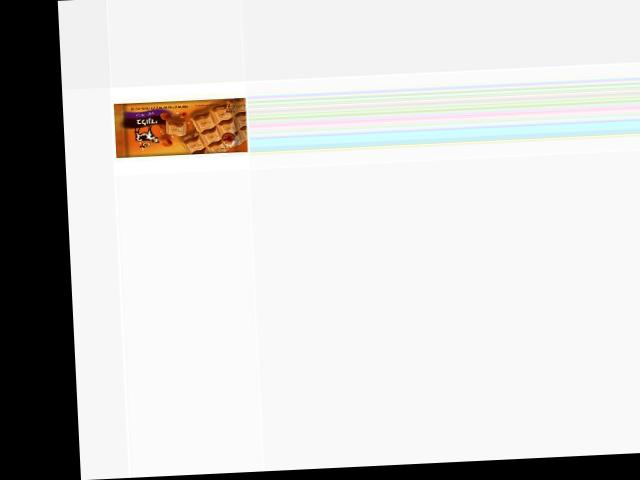chocolate: (109, 93, 248, 157)
